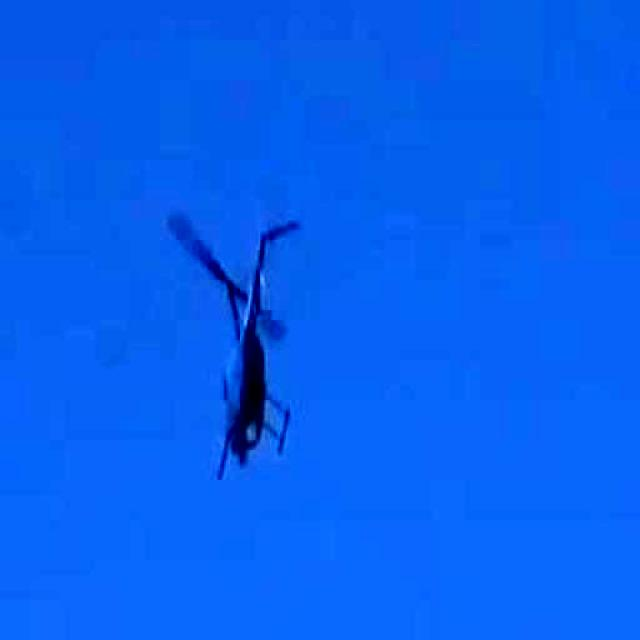drone: (104, 179, 350, 502)
